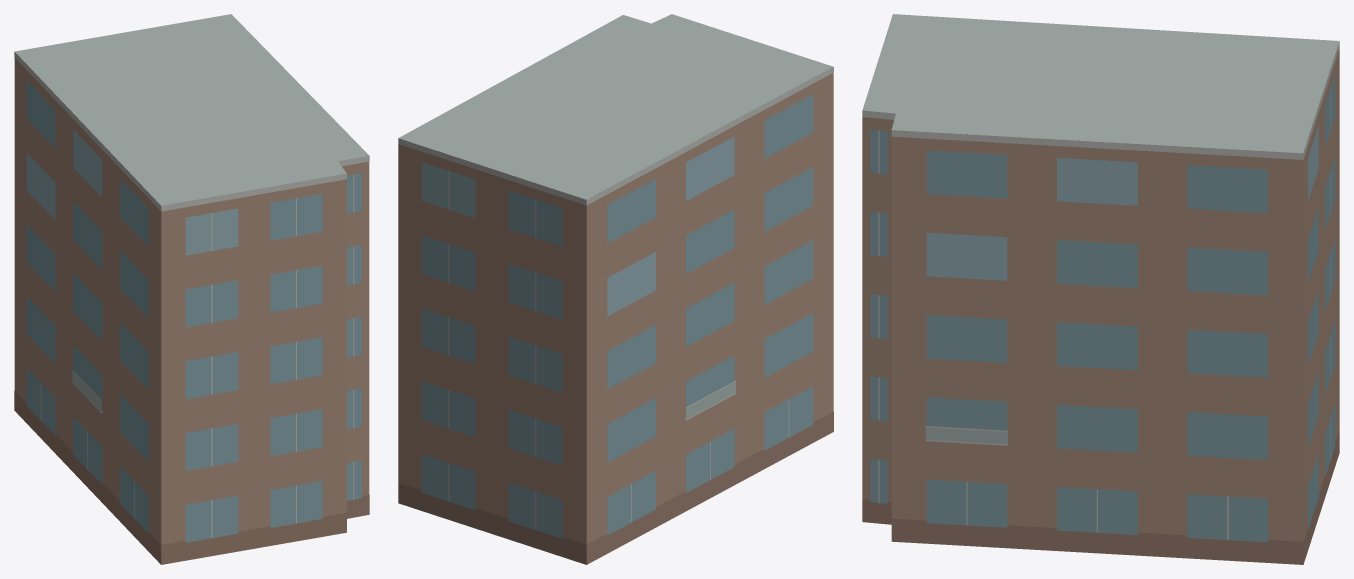
File: survey-upis-32819662.glb
3 views of the same model, side by side, from view 1: azimuth 30°, elevation 25°; view 2: azimuth 150°, elevation 25°; view 3: azimuth 270°, elevation 25° (orthographic). The views are drawn at different scales.
Visible parts, largest first — view 1: survey-upis-32819662.tmp; view 2: survey-upis-32819662.tmp; view 3: survey-upis-32819662.tmp.
Boxes of the visible parts, <box> form: survey-upis-32819662.tmp: <box>14,14,369,564</box>; survey-upis-32819662.tmp: <box>398,14,833,564</box>; survey-upis-32819662.tmp: <box>862,14,1339,564</box>.
Bounding box in the file's own units: 11.2 × 15.4 × 16.2.
